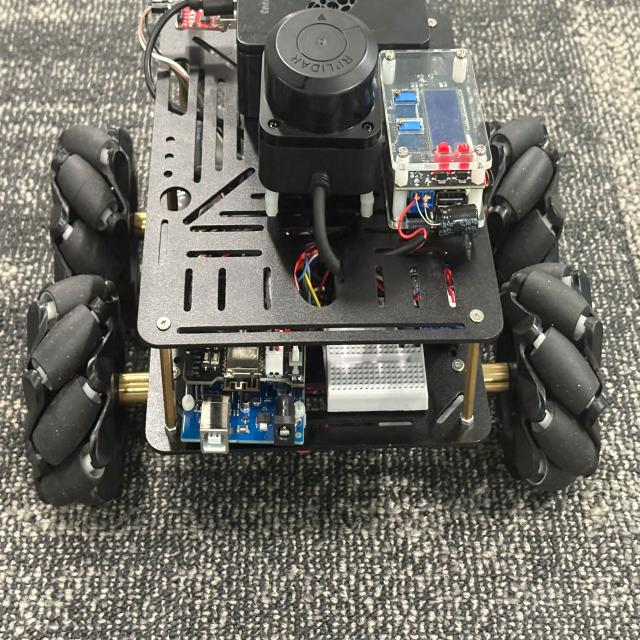ArduinoCar3: (24, 0, 605, 512)
